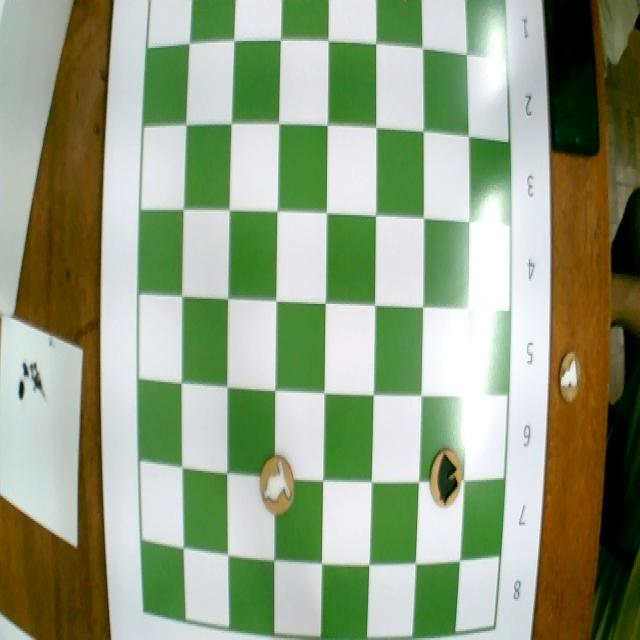chess-pieces: (258, 450, 298, 518), (425, 446, 462, 510)
